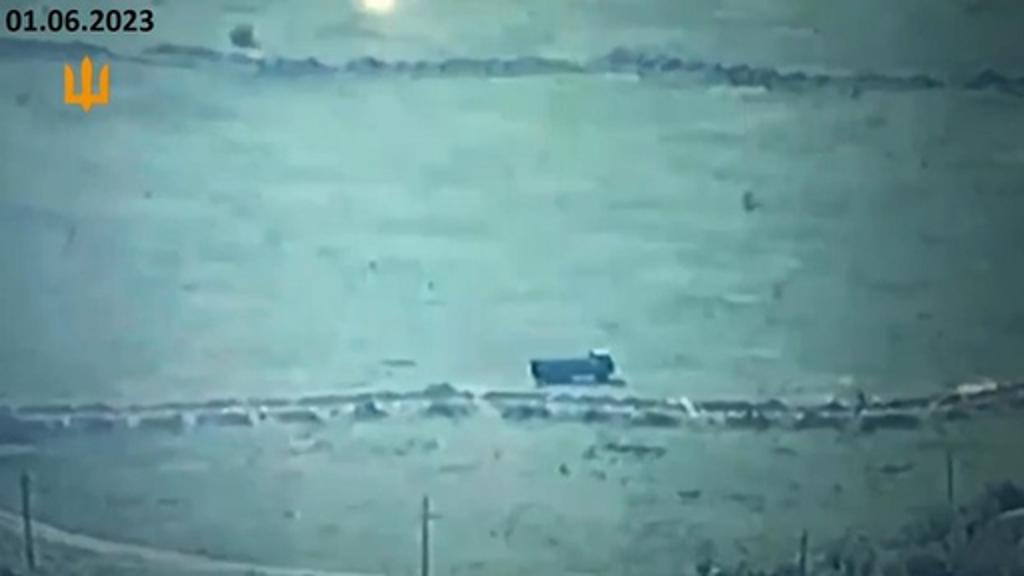TRUCK: (518, 338, 618, 394)
